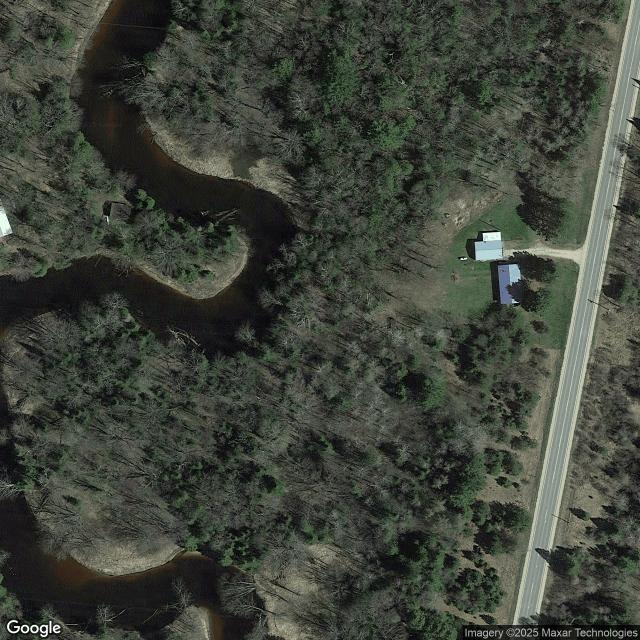Propane: (460, 257, 468, 261)
